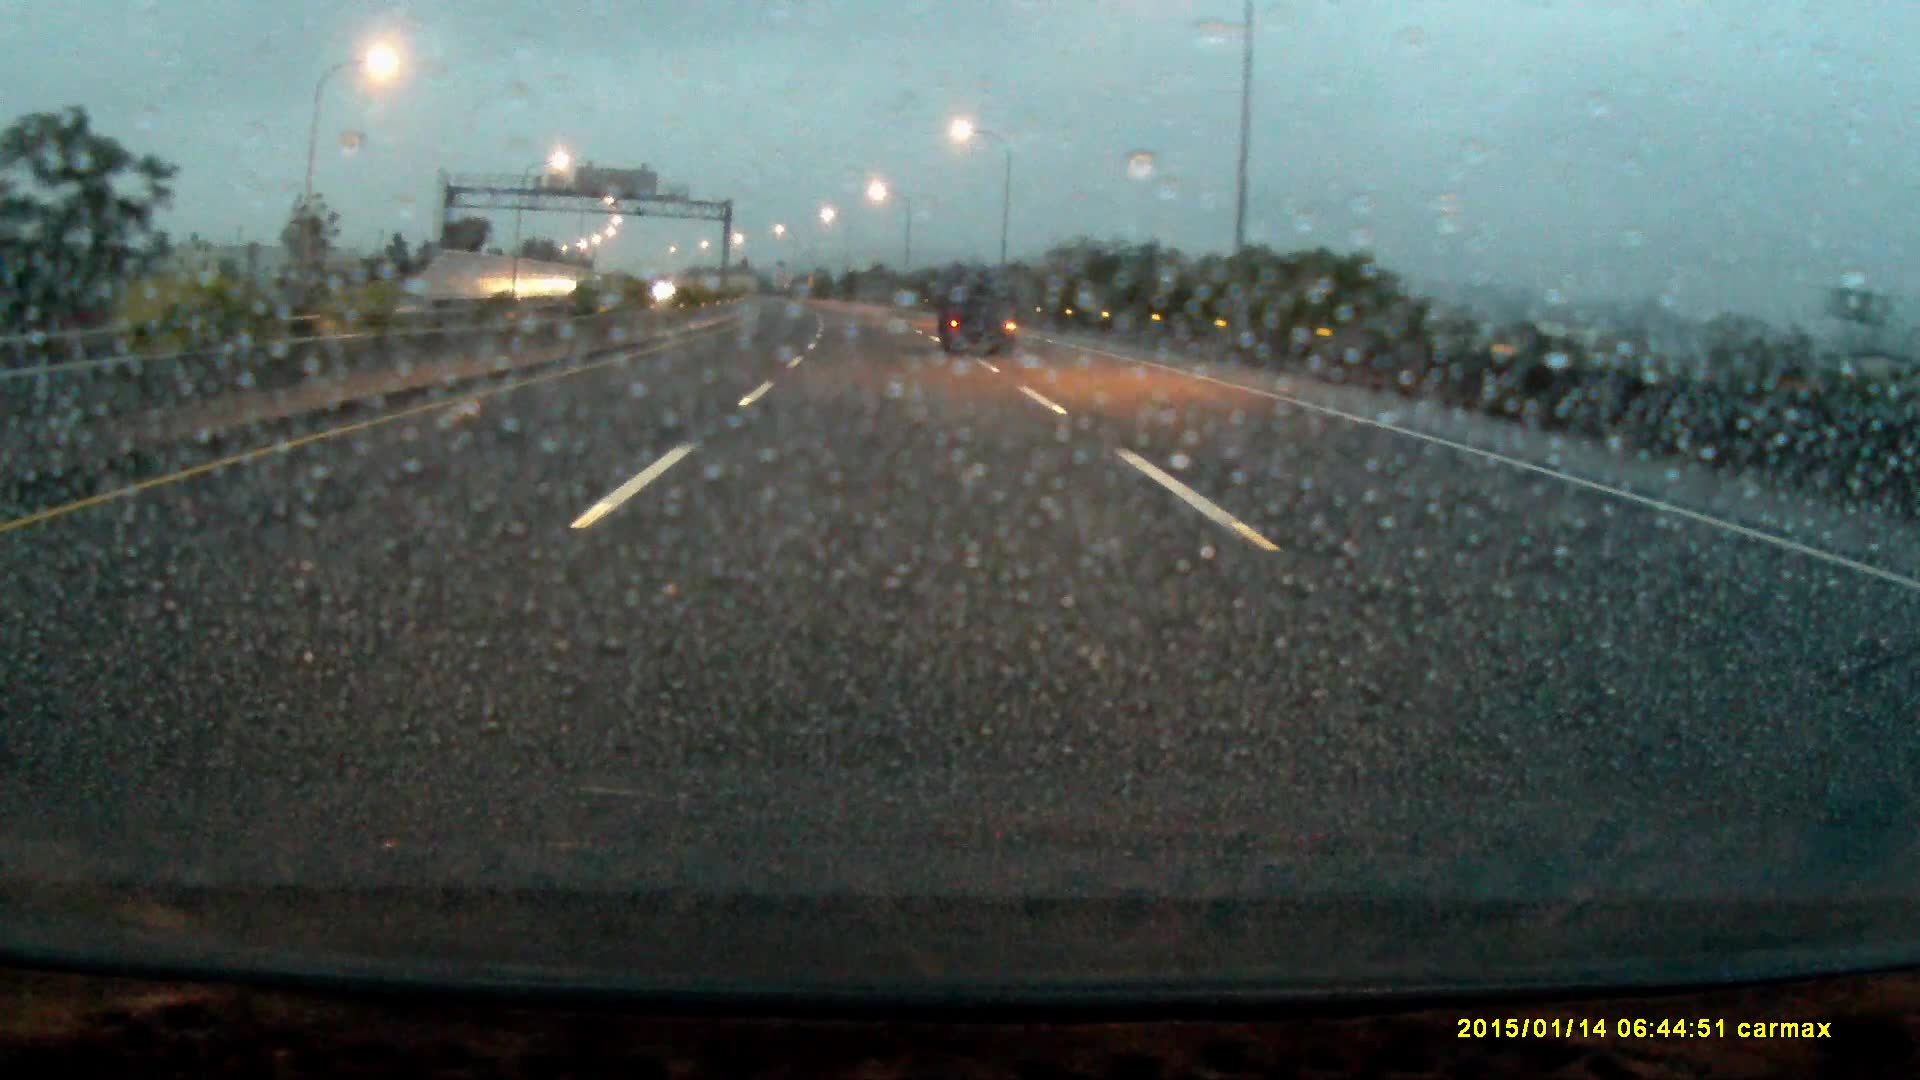vehicle: (936, 272, 1021, 357)
